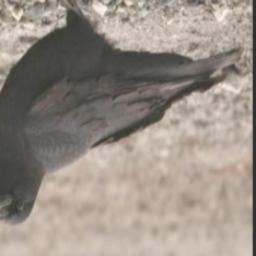Crow: (0, 0, 245, 229)
